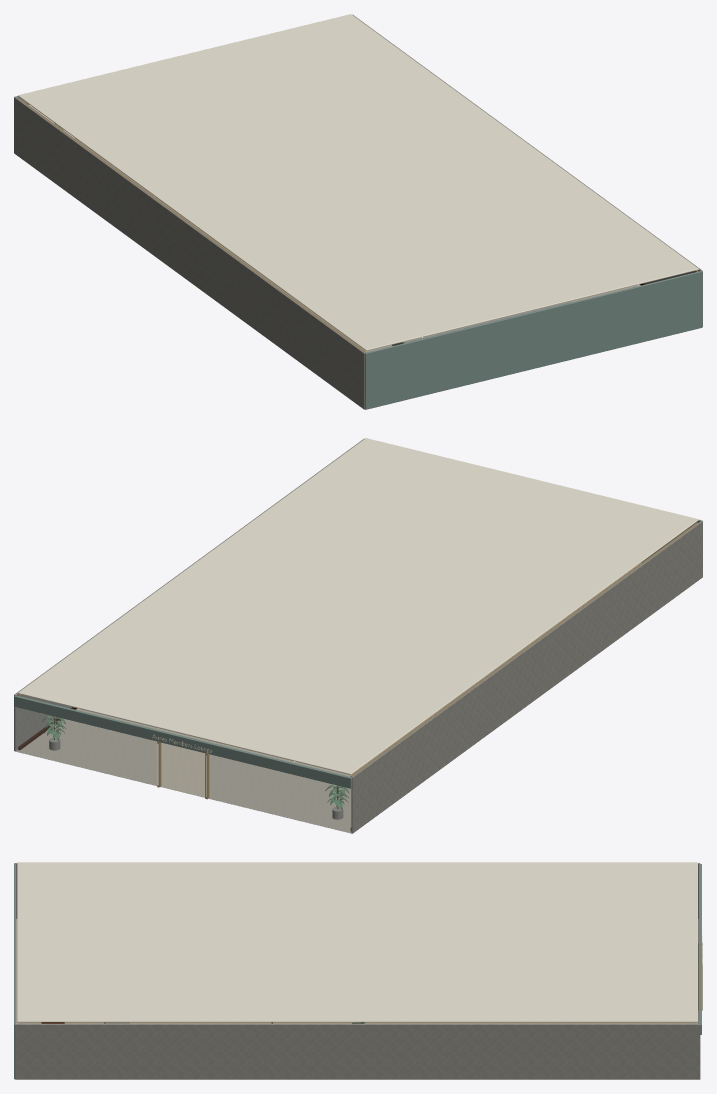
The model's file is member-lounge.glb.
3 renders of one model, top to bottom at view 1: azimuth 30°, elevation 25°; view 2: azimuth 150°, elevation 25°; view 3: azimuth 270°, elevation 25°, orthographic. The views are drawn at different scales.
Visible parts, largest first — view 1: Batched AUR-L4-MEMBER-LOUNGE::Warm porcelain, Batched AUR-L4-MEMBER-LOUNGE::Travertine, Batched AUR-L4-MEMBER-LOUNGE::Tenant member-lounge, Batched AUR-L4-MEMBER-LOUNGE::Bronze; view 2: Batched AUR-L4-MEMBER-LOUNGE::Warm porcelain, Batched AUR-L4-MEMBER-LOUNGE::Travertine, Batched AUR-L4-MEMBER-LOUNGE::Cream marble, Batched AUR-L4-MEMBER-LOUNGE::Tenant glass, Batched AUR-L4-MEMBER-LOUNGE::Tenant member-lounge, Batched AUR-L4-MEMBER-LOUNGE::Bronze, Batched AUR-L4-MEMBER-LOUNGE::Foliage; view 3: Batched AUR-L4-MEMBER-LOUNGE::Warm porcelain, Batched AUR-L4-MEMBER-LOUNGE::Travertine, Batched AUR-L4-MEMBER-LOUNGE::Cream marble, Batched AUR-L4-MEMBER-LOUNGE::Tenant member-lounge, Batched AUR-L4-MEMBER-LOUNGE::Bronze.
Boxes of the visible parts, box(x1,y1,x2,y2) form: Batched AUR-L4-MEMBER-LOUNGE::Warm porcelain: box(18, 14, 698, 350); Batched AUR-L4-MEMBER-LOUNGE::Travertine: box(14, 14, 702, 409); Batched AUR-L4-MEMBER-LOUNGE::Tenant member-lounge: box(14, 96, 702, 409); Batched AUR-L4-MEMBER-LOUNGE::Bronze: box(19, 98, 698, 352); Batched AUR-L4-MEMBER-LOUNGE::Warm porcelain: box(18, 438, 698, 774); Batched AUR-L4-MEMBER-LOUNGE::Travertine: box(14, 438, 702, 833); Batched AUR-L4-MEMBER-LOUNGE::Cream marble: box(15, 562, 641, 833); Batched AUR-L4-MEMBER-LOUNGE::Tenant glass: box(15, 707, 351, 832); Batched AUR-L4-MEMBER-LOUNGE::Tenant member-lounge: box(14, 519, 702, 788); Batched AUR-L4-MEMBER-LOUNGE::Bronze: box(18, 522, 697, 799); Batched AUR-L4-MEMBER-LOUNGE::Foliage: box(42, 715, 349, 809); Batched AUR-L4-MEMBER-LOUNGE::Warm porcelain: box(17, 862, 702, 1022); Batched AUR-L4-MEMBER-LOUNGE::Travertine: box(15, 863, 700, 1079); Batched AUR-L4-MEMBER-LOUNGE::Cream marble: box(16, 918, 698, 1023); Batched AUR-L4-MEMBER-LOUNGE::Tenant member-lounge: box(14, 863, 701, 1079); Batched AUR-L4-MEMBER-LOUNGE::Bronze: box(19, 942, 702, 1023).
Size of the model in its own units: 30.16 by 4.97 by 54.29.
12 materials, 4 textured.
